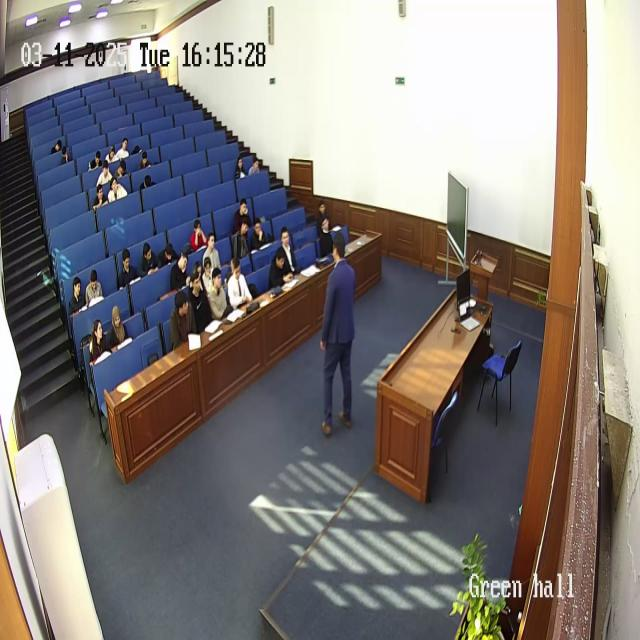person: (318, 232, 358, 433), (169, 290, 197, 348), (187, 269, 213, 331), (226, 255, 253, 309), (206, 266, 230, 321), (267, 245, 293, 289), (88, 319, 110, 367), (277, 228, 299, 276), (108, 303, 130, 349), (231, 216, 251, 264), (168, 251, 190, 293), (118, 248, 140, 289), (201, 231, 222, 273), (318, 213, 336, 260), (68, 278, 88, 318), (85, 270, 105, 308), (233, 198, 253, 235), (250, 217, 270, 253), (200, 258, 216, 298), (140, 243, 158, 277), (189, 219, 207, 253), (95, 162, 114, 192), (108, 175, 128, 203), (316, 200, 331, 233), (91, 183, 108, 210), (162, 239, 178, 266), (116, 162, 130, 185), (235, 158, 249, 180), (117, 137, 131, 159), (140, 175, 156, 193), (89, 148, 102, 170), (247, 156, 261, 176), (138, 149, 152, 168), (51, 140, 65, 156), (58, 144, 68, 166)
